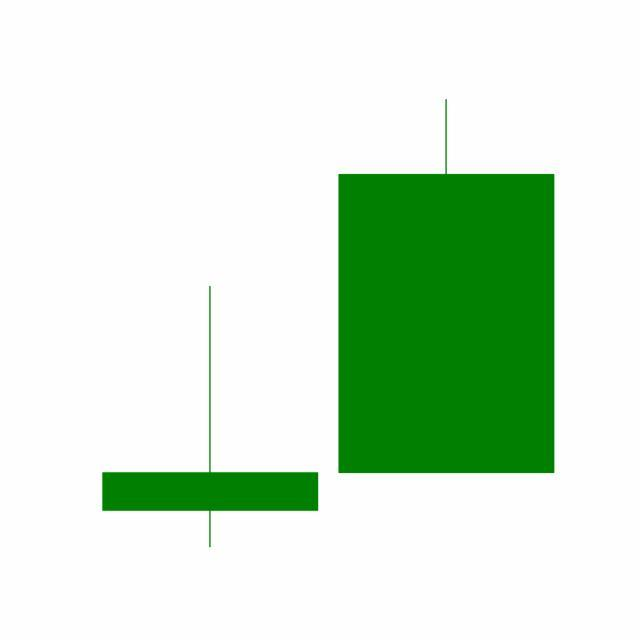Marubozu: (328, 95, 566, 477)
